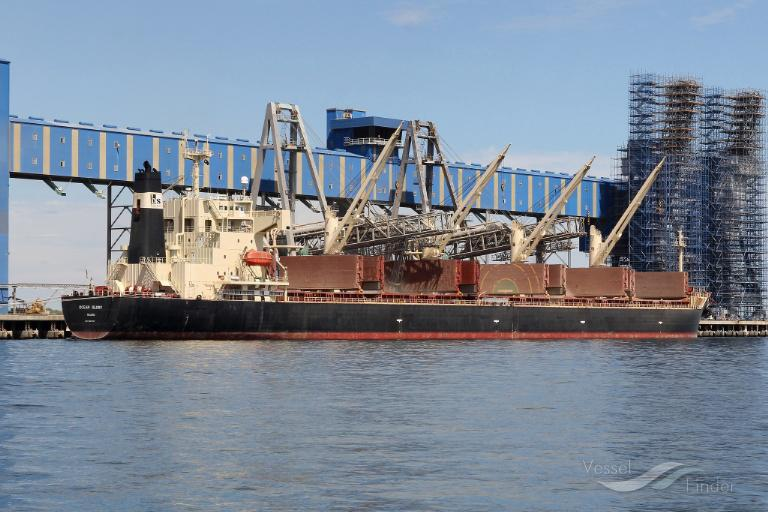OCR: (65, 302, 107, 328)
